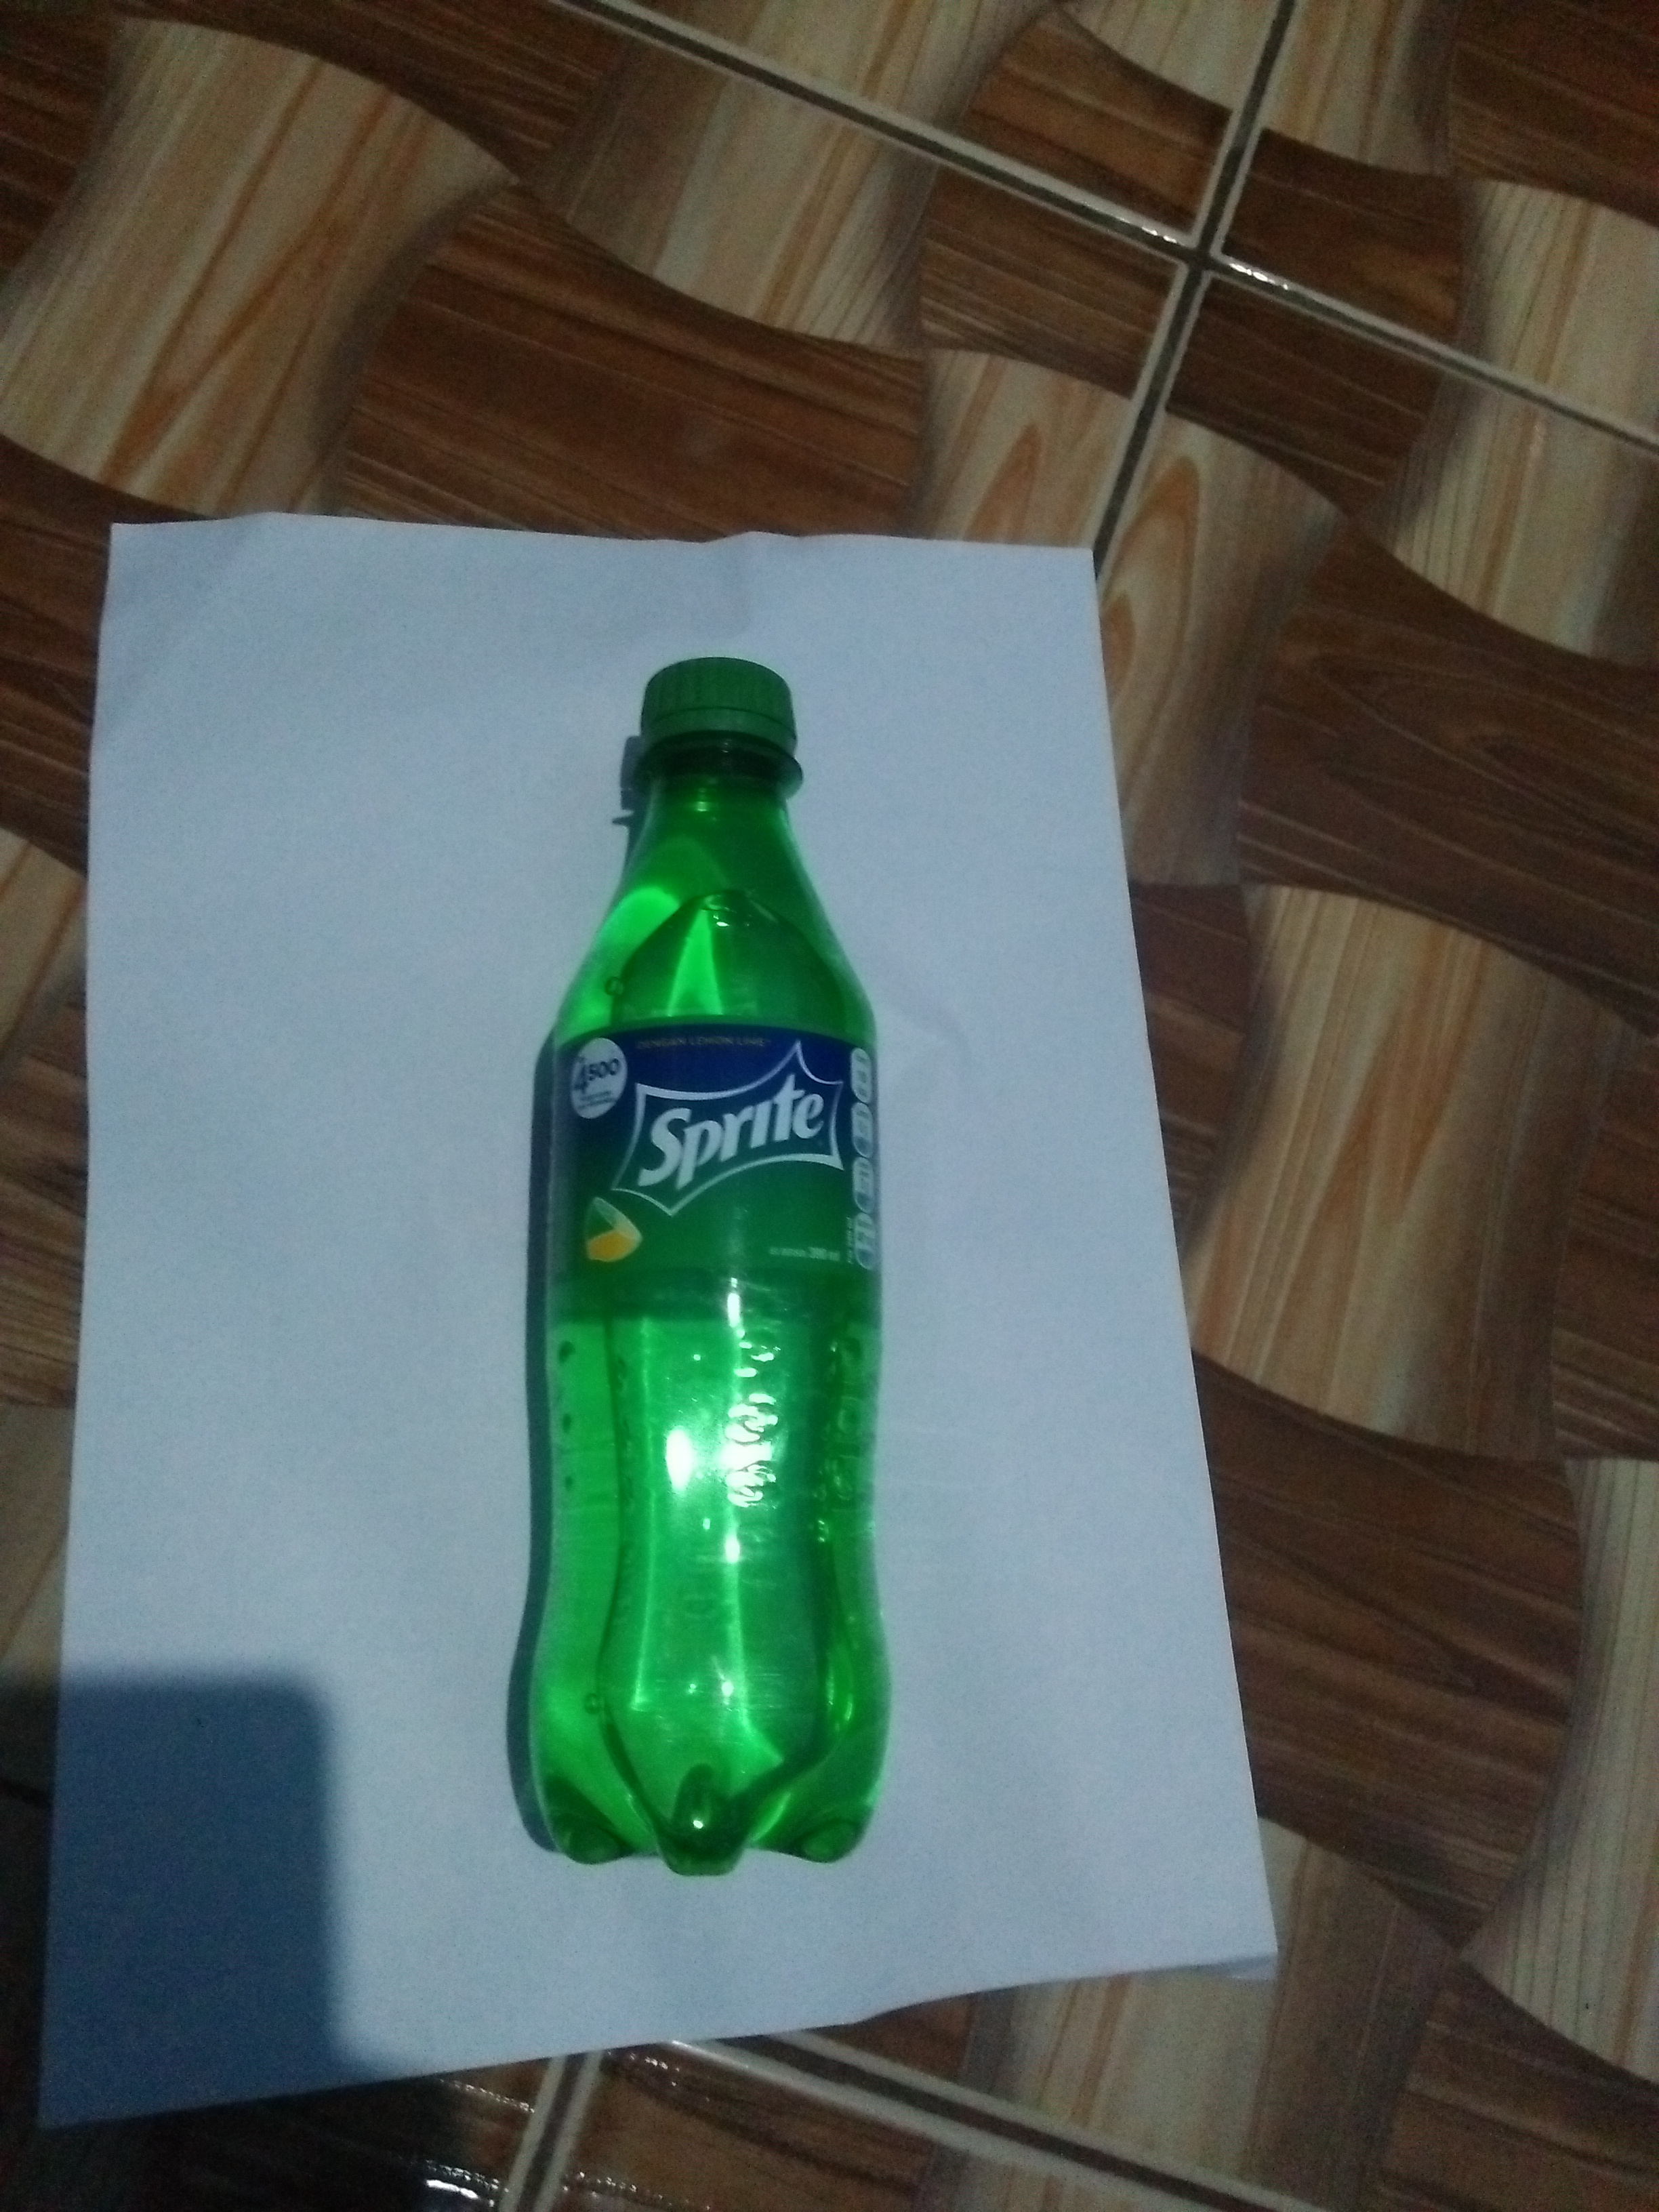Sprite: (498, 631, 931, 1909)
